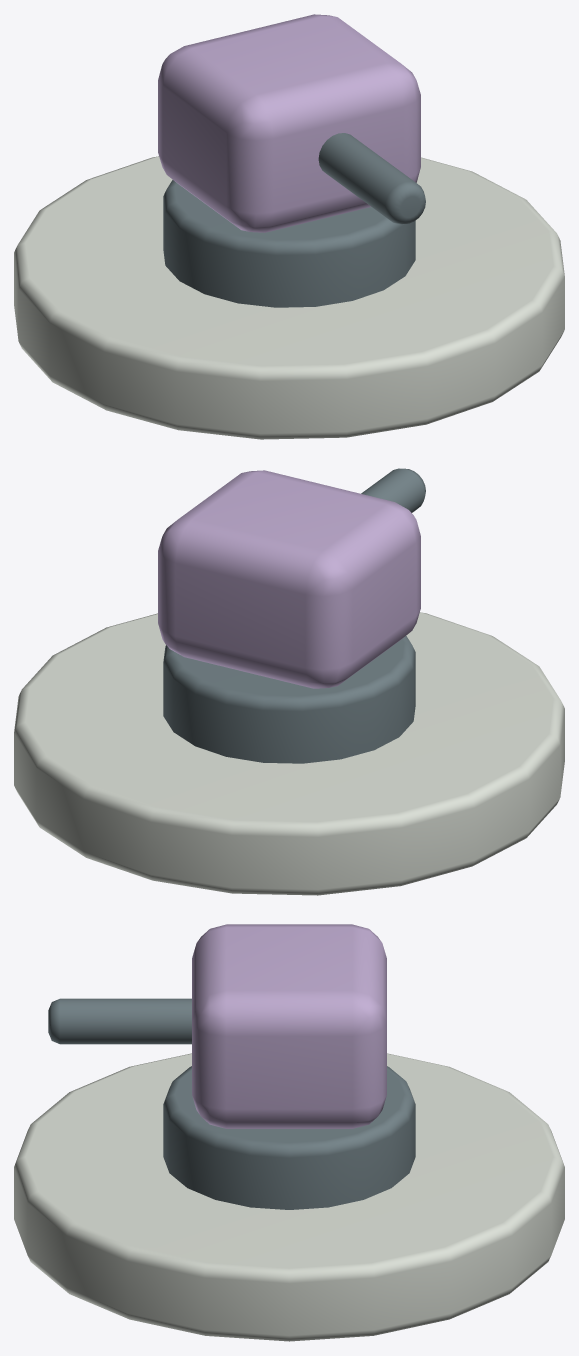
The model's file is bonus_turret.glb.
3 views of the same model, one above another, from view 1: azimuth 30°, elevation 25°; view 2: azimuth 150°, elevation 25°; view 3: azimuth 270°, elevation 25° (orthographic).
Parts seen in each view (by area): view 1: Bonus_rounded_plinth004, Bonus_turret_pod, Bonus_turret_base, Bonus_turret_barrel; view 2: Bonus_rounded_plinth004, Bonus_turret_pod, Bonus_turret_base, Bonus_turret_barrel; view 3: Bonus_rounded_plinth004, Bonus_turret_pod, Bonus_turret_base, Bonus_turret_barrel.
Boxes of the visible parts, x1,y1,x2,y2 form: Bonus_rounded_plinth004: (14,156,564,439); Bonus_turret_pod: (158,14,420,232); Bonus_turret_base: (163,180,415,307); Bonus_turret_barrel: (318,133,425,224); Bonus_rounded_plinth004: (14,612,564,895); Bonus_turret_pod: (158,470,420,688); Bonus_turret_base: (163,636,415,763); Bonus_turret_barrel: (361,468,425,512); Bonus_rounded_plinth004: (14,1053,564,1341); Bonus_turret_pod: (192,924,386,1128); Bonus_turret_base: (163,1066,415,1209); Bonus_turret_barrel: (48,998,191,1044).
Size of the model in its own units: 0.96 by 0.52 by 0.96.
